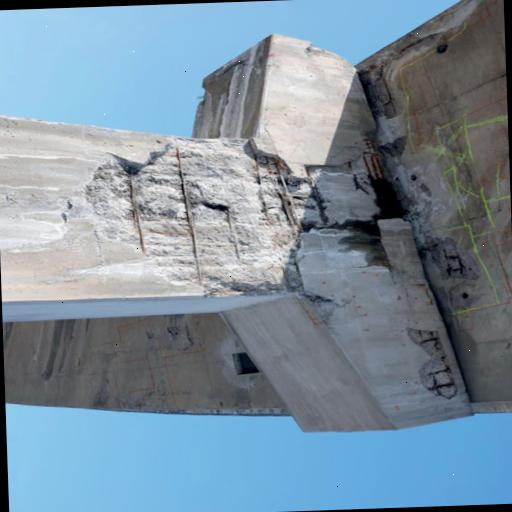spalling: (83, 134, 403, 289), (401, 324, 459, 396), (430, 235, 478, 281)
